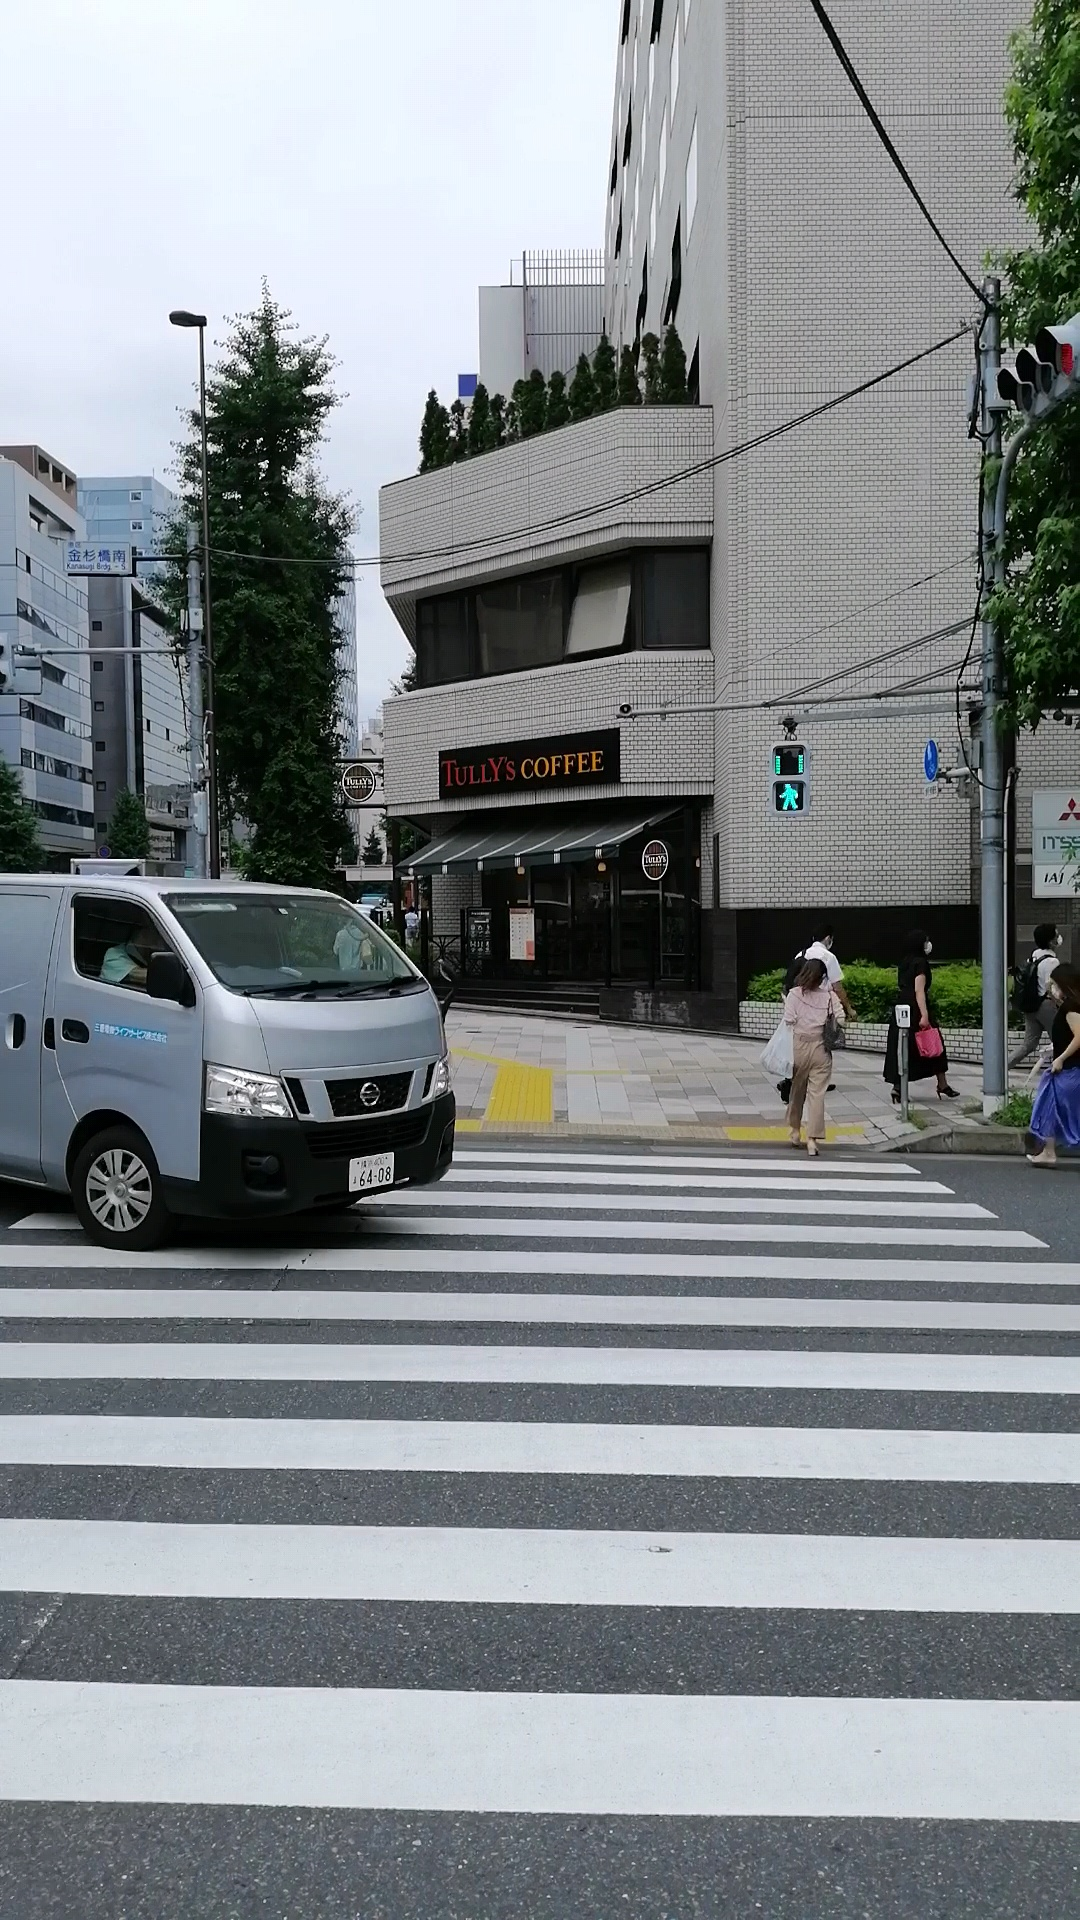green: (769, 741, 810, 818)
